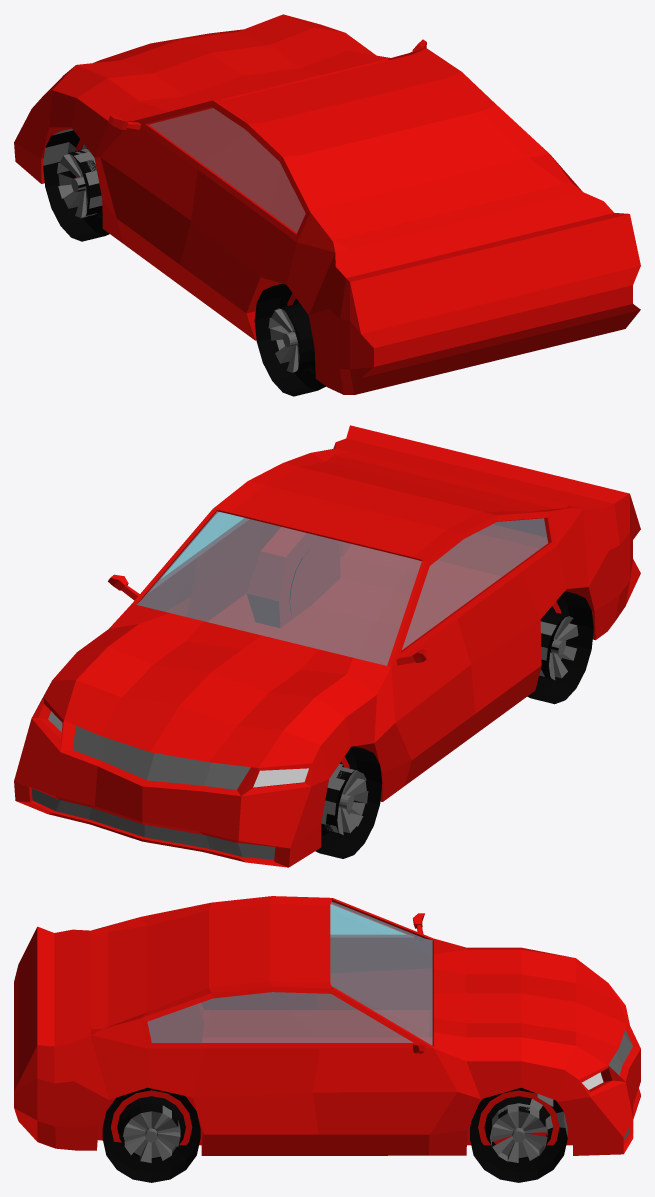
Rendered from auto.fbx.
3 renders of one model, top to bottom at view 1: azimuth 30°, elevation 25°; view 2: azimuth 150°, elevation 25°; view 3: azimuth 270°, elevation 25°, orthographic. The views are drawn at different scales.
Parts seen in each view (by area): view 1: Cube; view 2: Cube; view 3: Cube.
Boxes of the visible parts, box(x1,y1,x2,y2) form: Cube: box(14, 14, 640, 396); Cube: box(14, 425, 640, 867); Cube: box(14, 896, 640, 1182).
Size of the model in its own units: 228 by 143 by 448.
